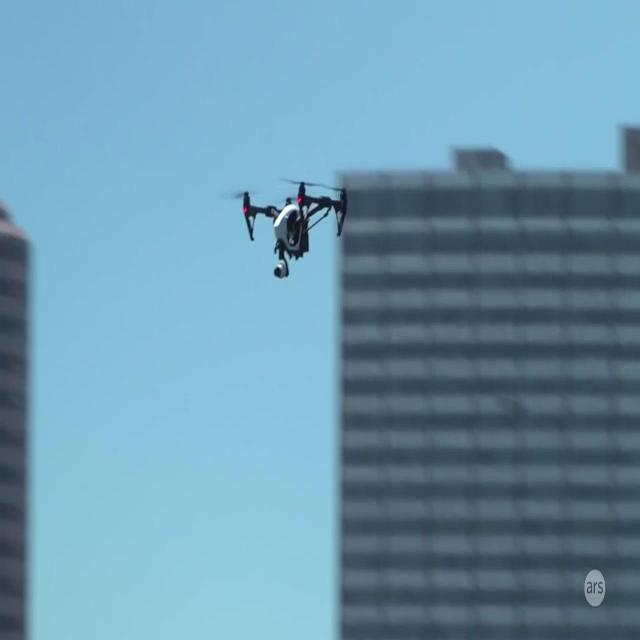drone: (226, 176, 348, 282)
